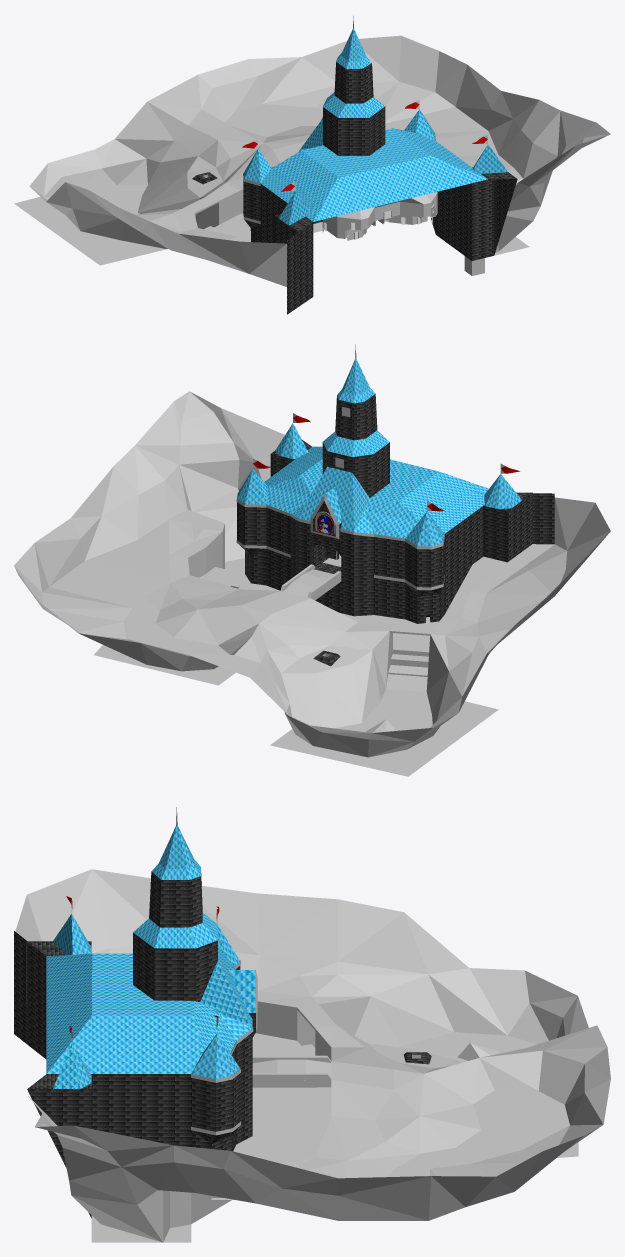
The model's file is CastilloSinCascada.fbx.
3 views of the same model, one above another, from view 1: azimuth 30°, elevation 25°; view 2: azimuth 150°, elevation 25°; view 3: azimuth 270°, elevation 25° (orthographic). The views are drawn at different scales.
Visible parts, largest first — view 1: OpaqueElements; view 2: OpaqueElements; view 3: OpaqueElements.
Boxes of the visible parts, x1,y1,x2,y2 form: OpaqueElements: (14, 16, 610, 314); OpaqueElements: (14, 344, 610, 776); OpaqueElements: (14, 807, 610, 1242).
Size of the model in its own units: 9830 by 5977 by 8939.
